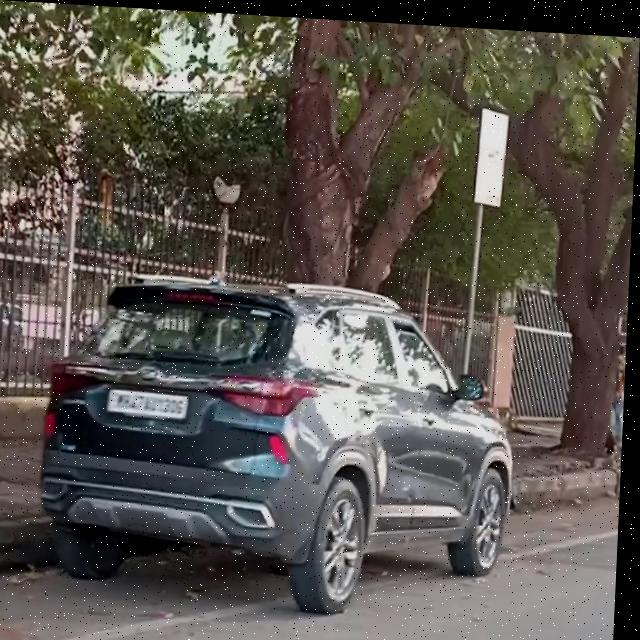plate: (110, 386, 196, 421)
